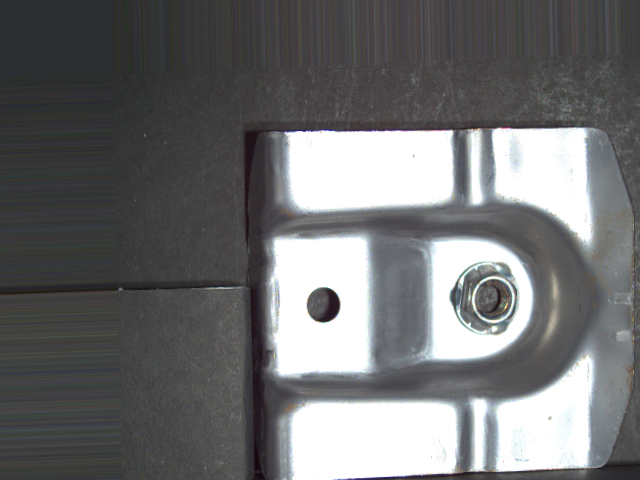good: (449, 254, 525, 344)
